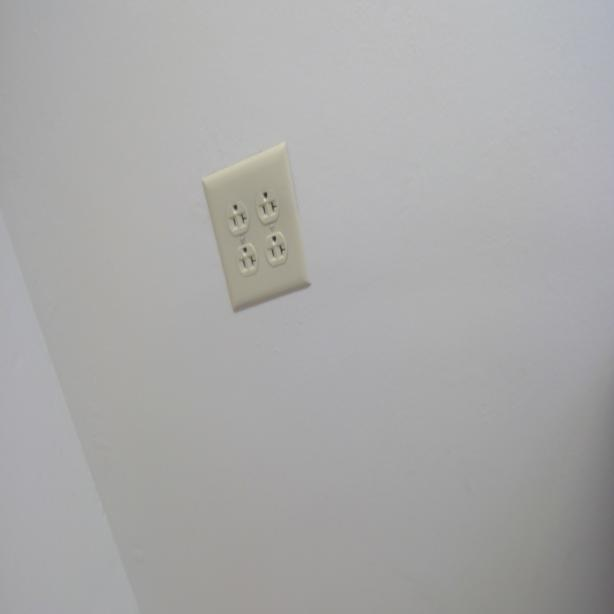typeb: (255, 190, 280, 222), (226, 202, 249, 236), (236, 244, 258, 276), (264, 234, 286, 265)
